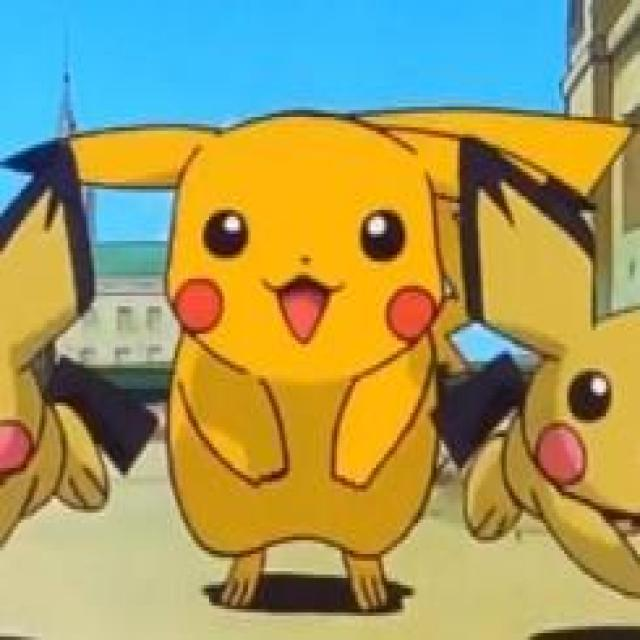pikachu: (0, 112, 638, 610)
